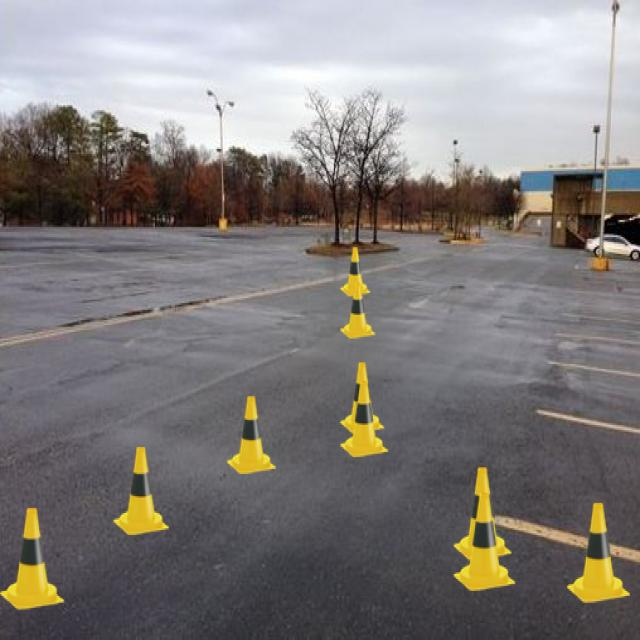yellow_cone: (0, 507, 64, 609), (567, 503, 630, 603), (454, 493, 515, 591), (454, 468, 512, 560), (113, 447, 169, 535), (227, 396, 276, 474), (340, 381, 388, 457), (340, 362, 384, 433), (340, 282, 376, 338), (340, 247, 370, 296)
